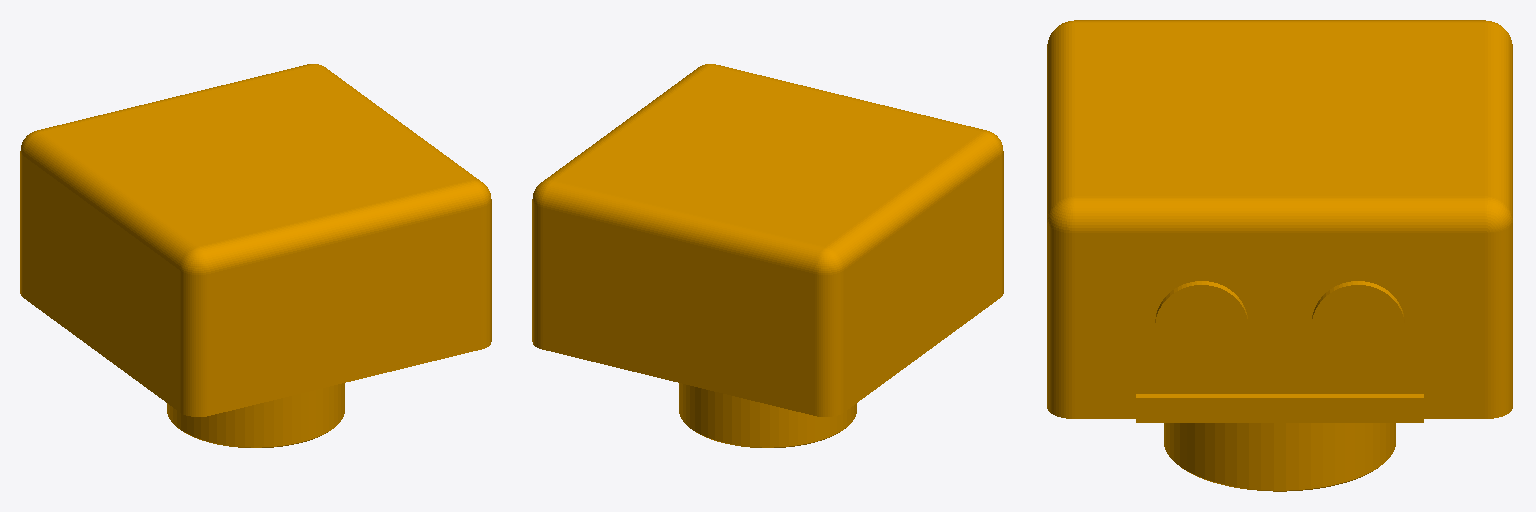
The robot description file, URDF, robot "holi_top_circle":
<?xml version="1.0"?>
<robot name="holi_top_circle">

  <link name="holi_top_circle">
        
    <visual>
      <origin xyz="0.0 0.0 0.0" rpy="0.0 0 1.57079632679"/>
      <geometry>
        <mesh filename="package://holi/meshes/visual/holi_top_circle.obj"/>
      </geometry>   
    </visual>

    <!-- head -->
    <collision>
      <origin xyz="0.0 0.0 0.027"/>
      <geometry>
        <box size="0.05 0.05 0.025"/>
      </geometry>    
    </collision>
    <inertial>
      <mass value="0.02"/>
      <friction value="1.0"/>
      <inertia ixx="0.02" ixy="0.0" ixz="0.0" iyy="0.02" iyz="0.0" izz="0.02"/>
    </inertial>

    <!-- head peg -->
    <collision>
      <origin xyz="0.0 0.0 0.00725" rpy="0 0 0"/>
      <geometry>
        <cylinder length="0.0145" radius="0.0125"/>        
      </geometry>      
    </collision>
    <inertial>
      <mass value="0.003"/>
      <friction value="1.0"/>
      <inertia ixx="0.003" ixy="0.0" ixz="0.0" iyy="0.003" iyz="0.0" izz="0.003"/>
    </inertial>
   
  </link>

</robot>

--- Facts derived from the render (not from the file) ---
3 views of the same robot in one strip: view 1: azimuth 30°, elevation 25°; view 2: azimuth 150°, elevation 25°; view 3: azimuth 270°, elevation 25° (orthographic).
Robot: holi_top_circle — 1 links, 0 joints (none); root link holi_top_circle; default pose: every joint at zero.
Links seen in each view (by area): view 1: holi_top_circle; view 2: holi_top_circle; view 3: holi_top_circle.
Boxes of the visible links, <box> form: holi_top_circle: <box>20,64,491,447</box>; holi_top_circle: <box>532,64,1003,447</box>; holi_top_circle: <box>1047,20,1512,491</box>.
Bounding box of the posed robot: 0.051 × 0.05 × 0.0395 m (x, y, z).
Meshes: 1 distinct files referenced, 1 mesh visuals loaded (1 OBJ).